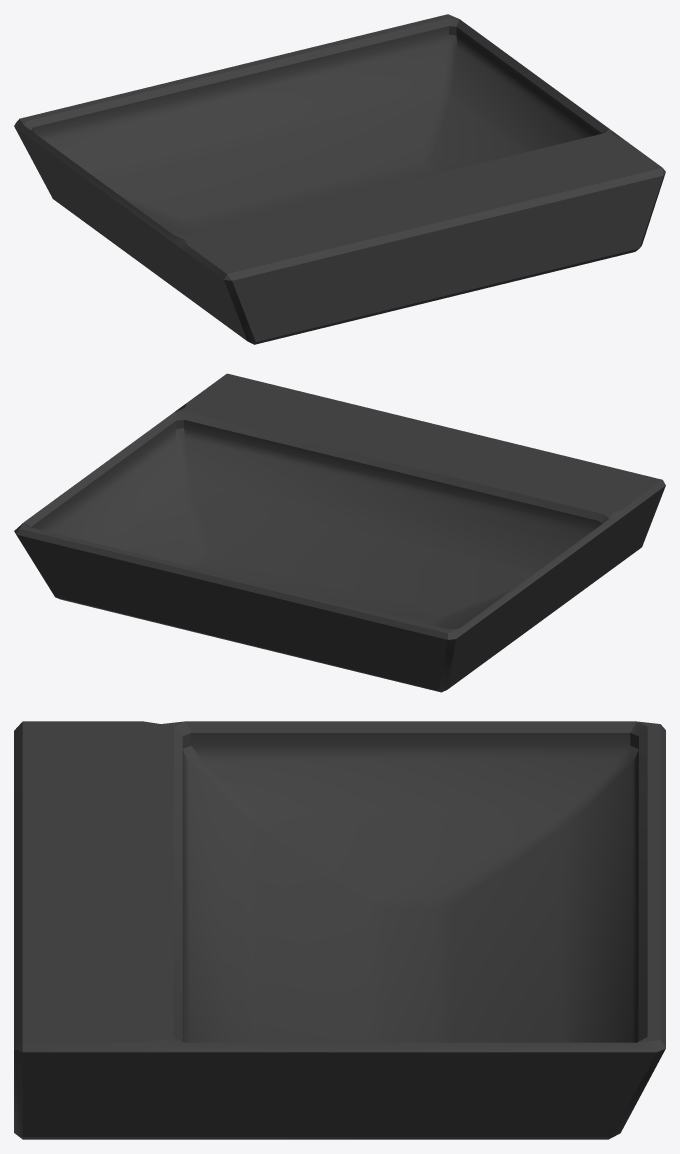
Rendered from tray_1.glb.
3 views of the same model, one above another, from view 1: azimuth 30°, elevation 25°; view 2: azimuth 150°, elevation 25°; view 3: azimuth 270°, elevation 25° (orthographic). The views are drawn at different scales.
Parts seen in each view (by area): view 1: Cube.110; view 2: Cube.110; view 3: Cube.110.
Boxes of the visible parts, bbox=[...] form: Cube.110: bbox=[14, 14, 665, 344]; Cube.110: bbox=[14, 373, 665, 692]; Cube.110: bbox=[14, 721, 665, 1139].
Size of the model in its own units: 0.2623 by 0.0439 by 0.2217.
1 material, 1 textured.
